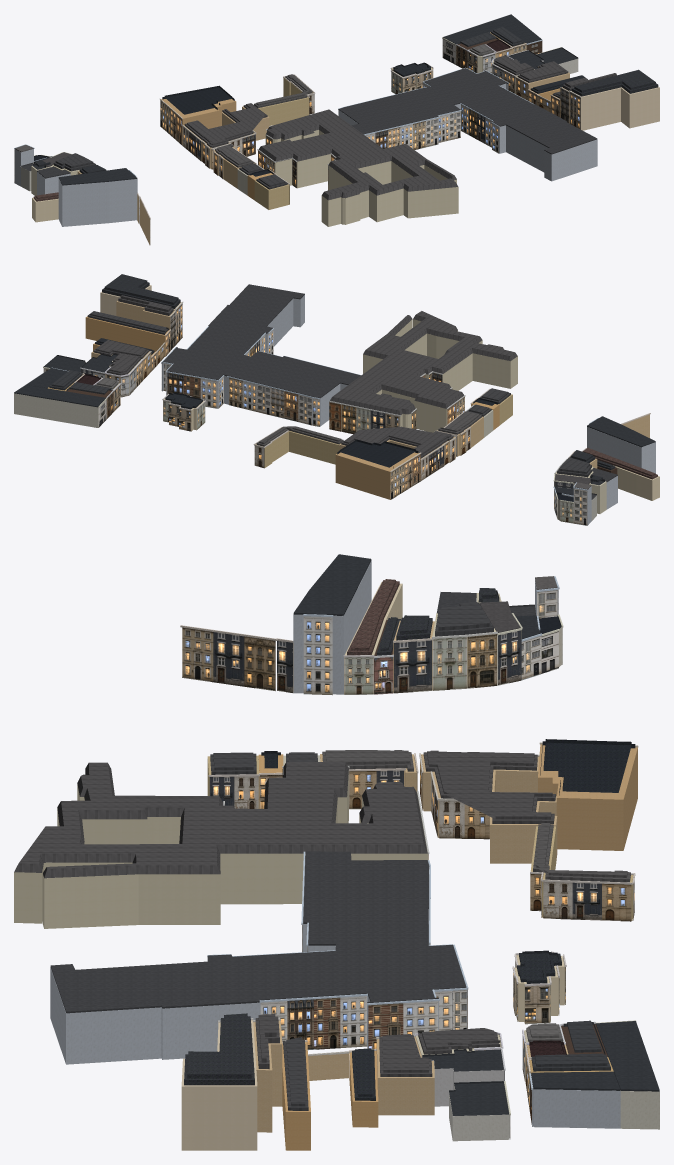
The picture shows the model from 3 angles, top to bottom: view 1: azimuth 30°, elevation 25°; view 2: azimuth 150°, elevation 25°; view 3: azimuth 270°, elevation 25°; orthographic projection. The views are drawn at different scales.
Parts seen in each view (by area): view 1: bldg_179371956_roof, bldg_6990484_roof, bldg_6990484, bldg_498882477, bldg_179371956, bldg_497911464, bldg_179371956_facade18, bldg_494688202_roof_b, bldg_494684916_roof_b, bldg_494684913, bldg_497911464_roof_b, bldg_179371956_facade15 (+21 smaller); view 2: bldg_179371956_roof, bldg_6990484_roof, bldg_6990484, bldg_179371956_facade20, bldg_494684916, bldg_453582914, bldg_179371956, bldg_494684913, bldg_498882477, bldg_497911466, bldg_494688202_roof_b, bldg_494684916_roof_b (+20 smaller); view 3: bldg_179371956_roof, bldg_6990484_roof, bldg_6990484, bldg_179371956, bldg_494684916, bldg_497911464, bldg_498882478_facade1, bldg_494688202_roof_b, bldg_179371956_facade6, bldg_494684916_roof_b, bldg_494688202, bldg_494684913_facade2 (+43 smaller).
Boxes of the visible parts, x1,y1,x2,y2 form: bldg_179371956_roof: [338, 68, 597, 154]; bldg_6990484_roof: [258, 109, 458, 200]; bldg_6990484: [265, 130, 458, 226]; bldg_498882477: [58, 178, 137, 226]; bldg_179371956: [338, 83, 597, 181]; bldg_497911464: [571, 86, 659, 130]; bldg_179371956_facade18: [364, 116, 439, 149]; bldg_494688202_roof_b: [187, 103, 265, 145]; bldg_494684916_roof_b: [164, 85, 232, 114]; bldg_494684913: [258, 78, 313, 125]; bldg_497911464_roof_b: [574, 69, 655, 92]; bldg_179371956_facade15: [460, 103, 493, 147]; bldg_179371956_roof: [162, 284, 360, 398]; bldg_6990484_roof: [330, 311, 517, 415]; bldg_6990484: [341, 319, 517, 432]; bldg_179371956_facade20: [227, 376, 313, 425]; bldg_494684916: [335, 452, 419, 499]; bldg_453582914: [14, 393, 98, 427]; bldg_179371956: [162, 295, 347, 426]; bldg_494684913: [256, 431, 340, 467]; bldg_498882477: [587, 427, 655, 473]; bldg_497911466: [85, 316, 169, 356]; bldg_494688202_roof_b: [343, 426, 450, 455]; bldg_494684916_roof_b: [339, 439, 415, 467]; bldg_179371956_roof: [50, 851, 466, 1013]; bldg_6990484_roof: [14, 762, 427, 878]; bldg_6990484: [14, 770, 427, 928]; bldg_179371956: [50, 867, 438, 1064]; bldg_494684916: [538, 744, 637, 850]; bldg_497911464: [181, 1020, 257, 1150]; bldg_498882478_facade1: [180, 625, 277, 691]; bldg_494688202_roof_b: [427, 750, 552, 819]; bldg_179371956_facade6: [259, 993, 367, 1050]; bldg_494684916_roof_b: [543, 739, 631, 792]; bldg_494688202: [421, 754, 557, 863]; bldg_494684913_facade2: [541, 879, 632, 921].
Size of the model in its own units: 280 by 19.77 by 144.
70 materials, 34 textured.
